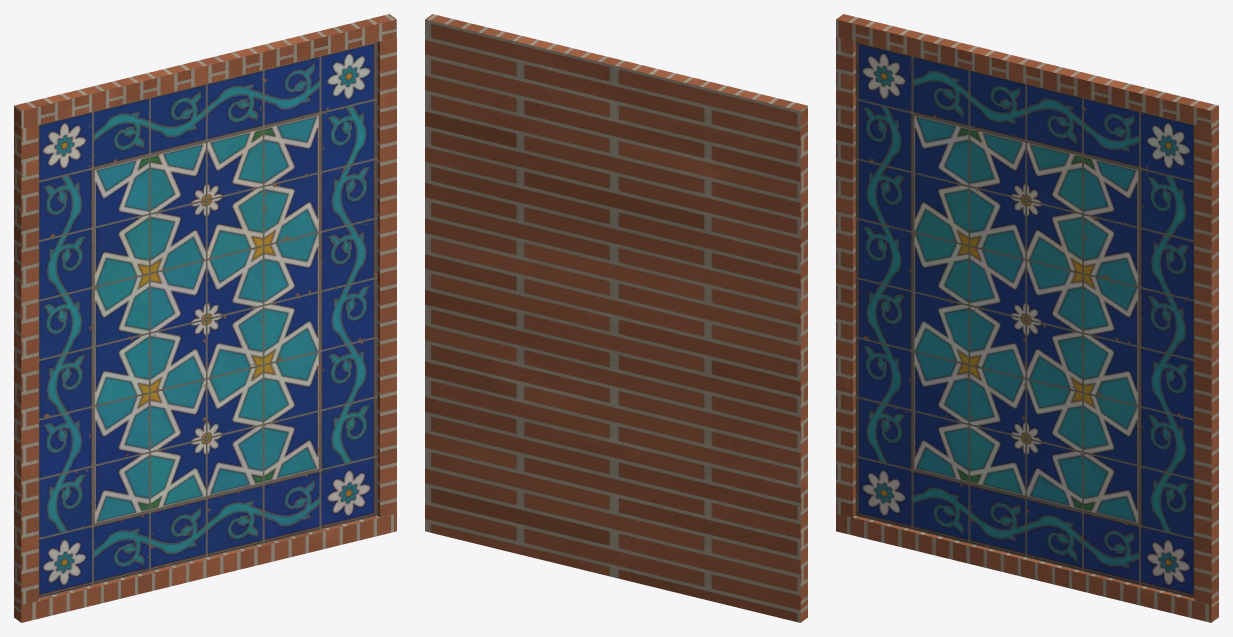
File: tile_panel_majolica.glb
3 views of the same model, side by side, from view 1: azimuth 30°, elevation 25°; view 2: azimuth 150°, elevation 25°; view 3: azimuth 330°, elevation 25° (orthographic).
Visible parts, largest first — view 1: tile_panel_majolica; view 2: tile_panel_majolica; view 3: tile_panel_majolica.
Part boxes in pixels (box(x1,y1,x2,y2)): tile_panel_majolica: box(14, 14, 396, 622); tile_panel_majolica: box(425, 14, 807, 622); tile_panel_majolica: box(836, 14, 1218, 622).
Size of the model in its own units: 1.32 by 1.72 by 0.045.
1 material, 1 textured.
